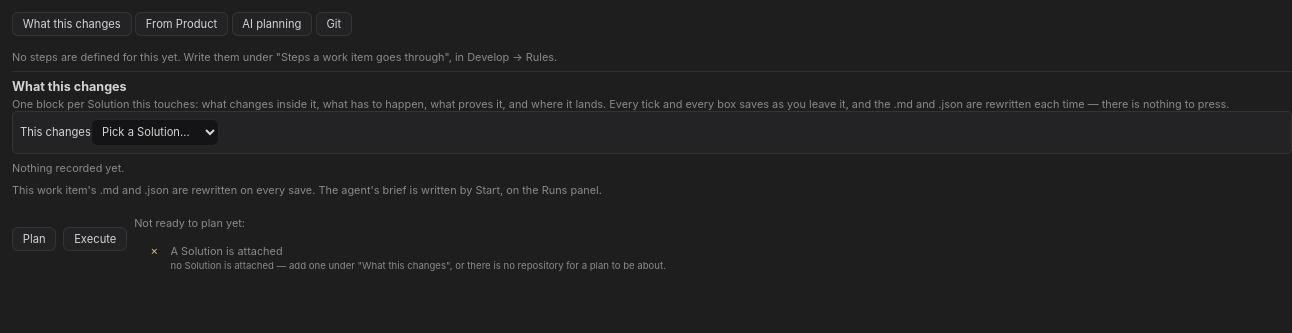
Test case: WorkItemBuildPlan › will not generate before a Solution is affected
The image size is (1292, 333).
Click the button with aria-label "Execute Add checkout" at (95, 239), box x1=63 y1=227 x2=127 y2=251
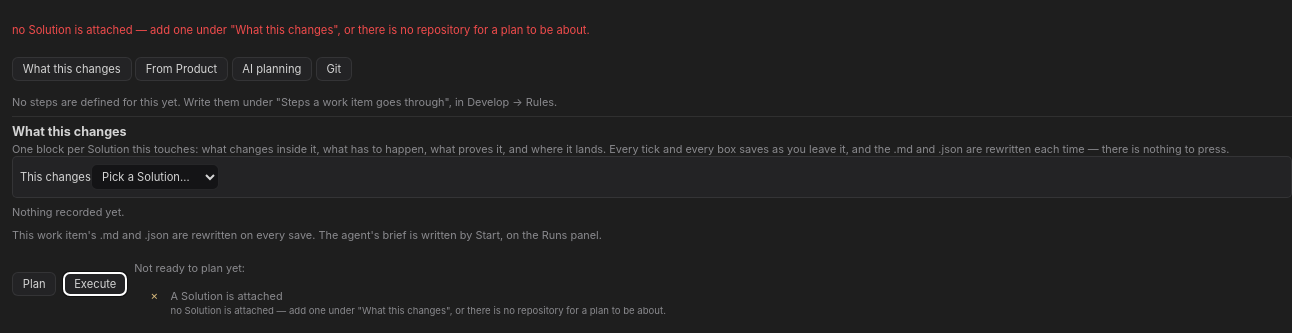
Expected: the message shows "no Solution is attached", x1=12 y1=23 x2=590 y2=37
